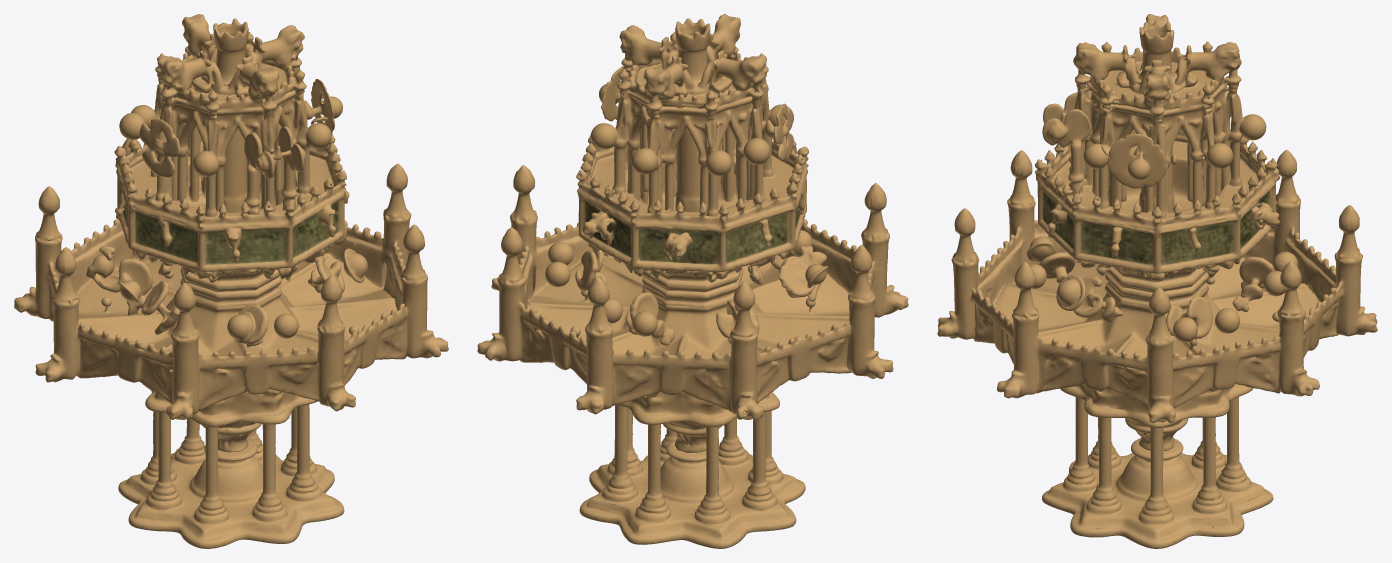
File: 01_fountain_vanilla.glb
3 renders of one model, left to right at view 1: azimuth 30°, elevation 25°; view 2: azimuth 150°, elevation 25°; view 3: azimuth 270°, elevation 25°, orthographic.
Parts seen in each view (by area): view 1: world; view 2: world; view 3: world.
Boxes of the visible parts, x1,y1,x2,y2 form: world: (14, 14, 448, 548); world: (477, 14, 908, 548); world: (937, 14, 1377, 548).
Bounding box in the file's own units: 0.8516 × 1 × 0.846.
1 material, 1 textured.
